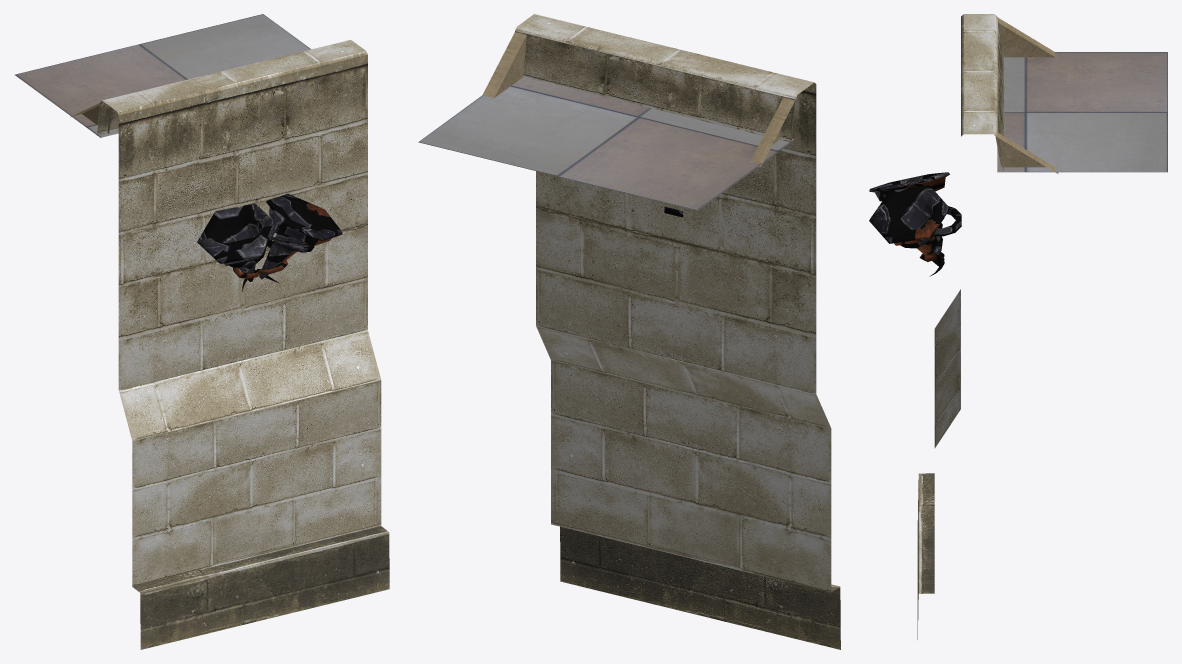
The model's file is caslte-wall-w-torch-2.fbx.
The picture shows the model from 3 angles, left to right: view 1: azimuth 30°, elevation 25°; view 2: azimuth 150°, elevation 25°; view 3: azimuth 270°, elevation 25°; orthographic projection. The views are drawn at different scales.
Parts seen in each view (by area): view 1: caslte-wall-w-torch-2; view 2: caslte-wall-w-torch-2; view 3: caslte-wall-w-torch-2.
Boxes of the visible parts, x1,y1,x2,y2 form: caslte-wall-w-torch-2: [14, 14, 389, 649]; caslte-wall-w-torch-2: [418, 14, 840, 649]; caslte-wall-w-torch-2: [869, 14, 1167, 639].
Size of the model in its own units: 200 by 400 by 210.
